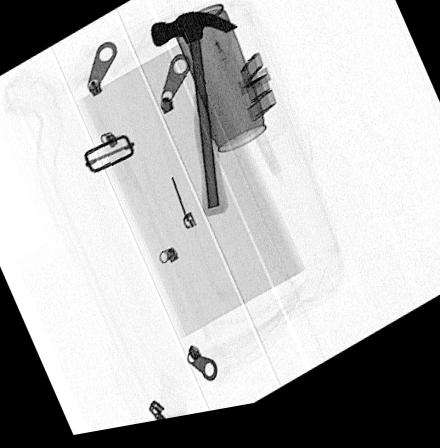Hammer: (150, 19, 238, 223)
